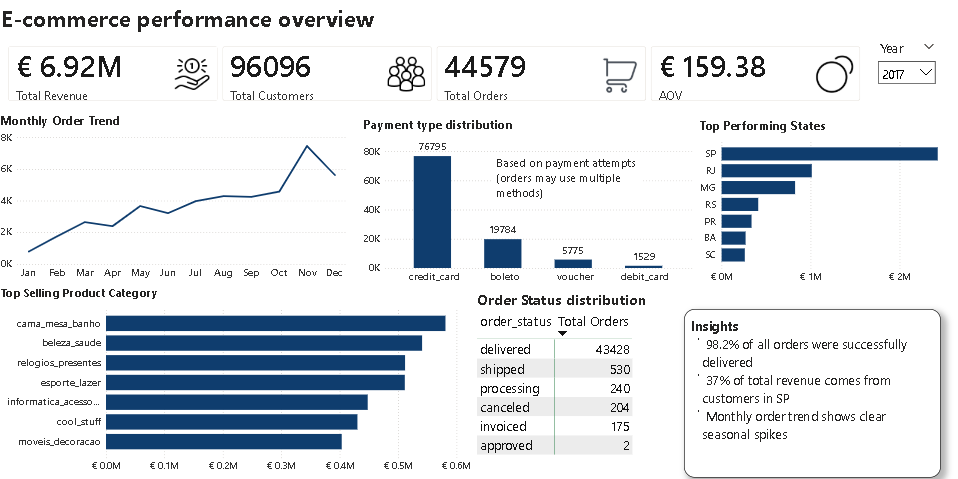

This screenshot's page, from the dashboard's own definition file:
{"tool":"powerbi","page":{"name":"overview","canvas":[1600,800],"ordinal":0},"visuals":[{"type":"cardVisual","fields":{"Data":["FactOrderItems.Total Revenue","DimCustomers.Total Customers","FactOrderItems.Total Orders","FactOrderItems.AOV"]},"box":[0,60,1456.7,125],"z":0},{"type":"slicer","fields":{"Values":["DimDate.Year"]},"box":[1456.1,59.6,115.8,86],"z":1000},{"type":"lineChart","title":"Monthly Order Trend","fields":{"Category":["DimDate.Month"],"Y":["FactOrderItems.Total Orders"]},"box":[0,185,585,290],"z":2000},{"type":"clusteredBarChart","title":"Top Selling Product Category","fields":{"Y":["FactOrderItems.Total Revenue"],"Category":["DimProducts.product_category"]},"box":[0,475,793.3,321.7],"z":3000},{"type":"clusteredBarChart","title":"Top Performing States","fields":{"Y":["FactOrderItems.Total Revenue"],"Category":["DimCustomers.customer_state"]},"box":[1165,193.3,435,288.3],"z":4000},{"type":"textbox","box":[0,0,811.4,60.4],"z":5000},{"type":"pivotTable","title":"Order Status distribution","fields":{"Rows":["FactOrderItems.order_status"],"Values":["FactOrderItems.Overall orders"]},"box":[793,482.5,350.9,317.5],"z":6000},{"type":"clusteredColumnChart","title":"Payment type distribution","fields":{"Category":["order_payments.Payment Type Clean"],"Y":["order_payments.Payment type"]},"box":[605,191.7,560,290],"z":7000},{"type":"textbox","box":[1143.9,515.8,428.1,280.7],"z":8000},{"type":"textbox","box":[825.8,252.9,247.7,92.9],"z":9000}]}

Visuals, with their boxes in screenshot pixels (x1, y1, x2, y2), scaled from the page's 1600x800 canvas onto the 958x479 screenshot:
cardVisual - FactOrderItems.Total Revenue x DimCustomers.Total Customers: l=0, t=36, r=872, b=111
slicer - DimDate.Year: l=872, t=36, r=941, b=87
"Monthly Order Trend" lineChart: l=0, t=111, r=350, b=284
"Top Selling Product Category" clusteredBarChart: l=0, t=284, r=475, b=477
"Top Performing States" clusteredBarChart: l=698, t=116, r=957, b=288
textbox: l=0, t=0, r=486, b=36
"Order Status distribution" pivotTable: l=475, t=289, r=685, b=478
"Payment type distribution" clusteredColumnChart: l=362, t=115, r=698, b=288
textbox: l=685, t=309, r=941, b=477
textbox: l=494, t=151, r=643, b=207
